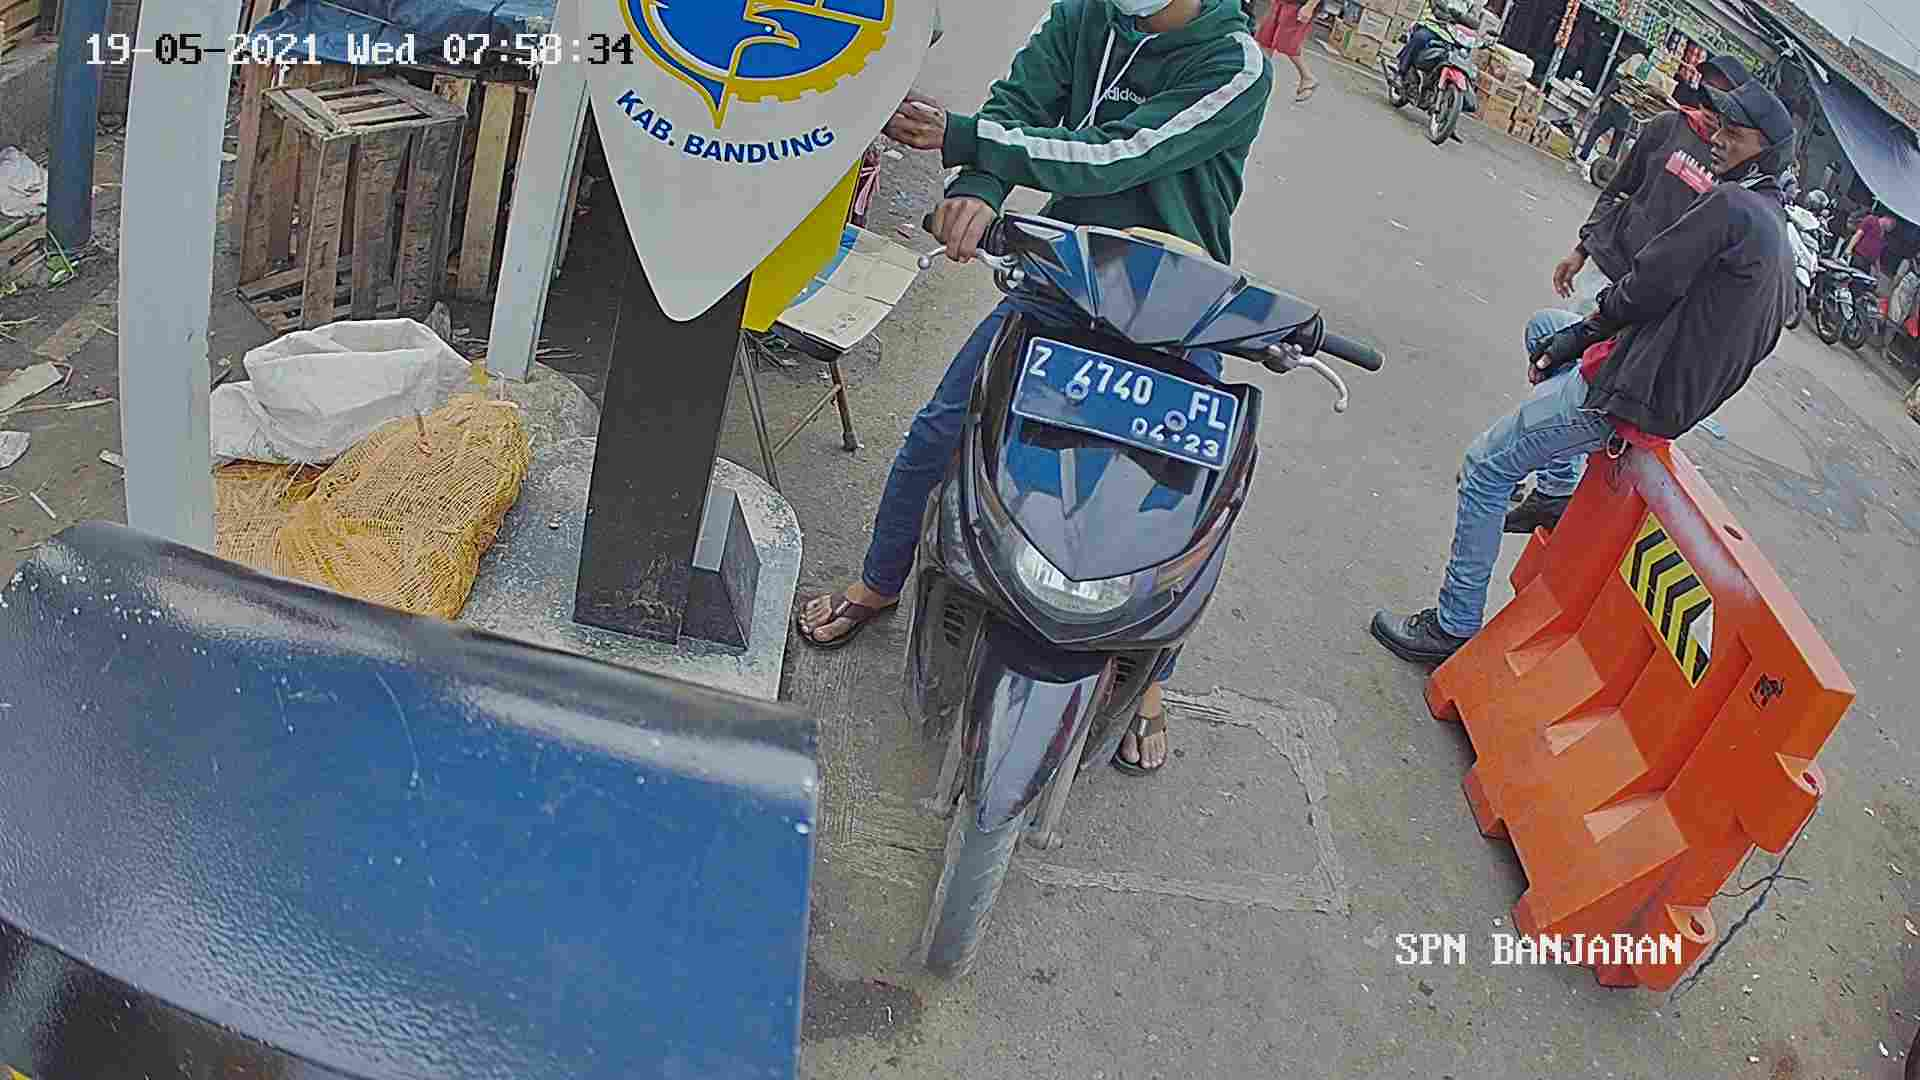motor: (905, 206, 1249, 1029)
